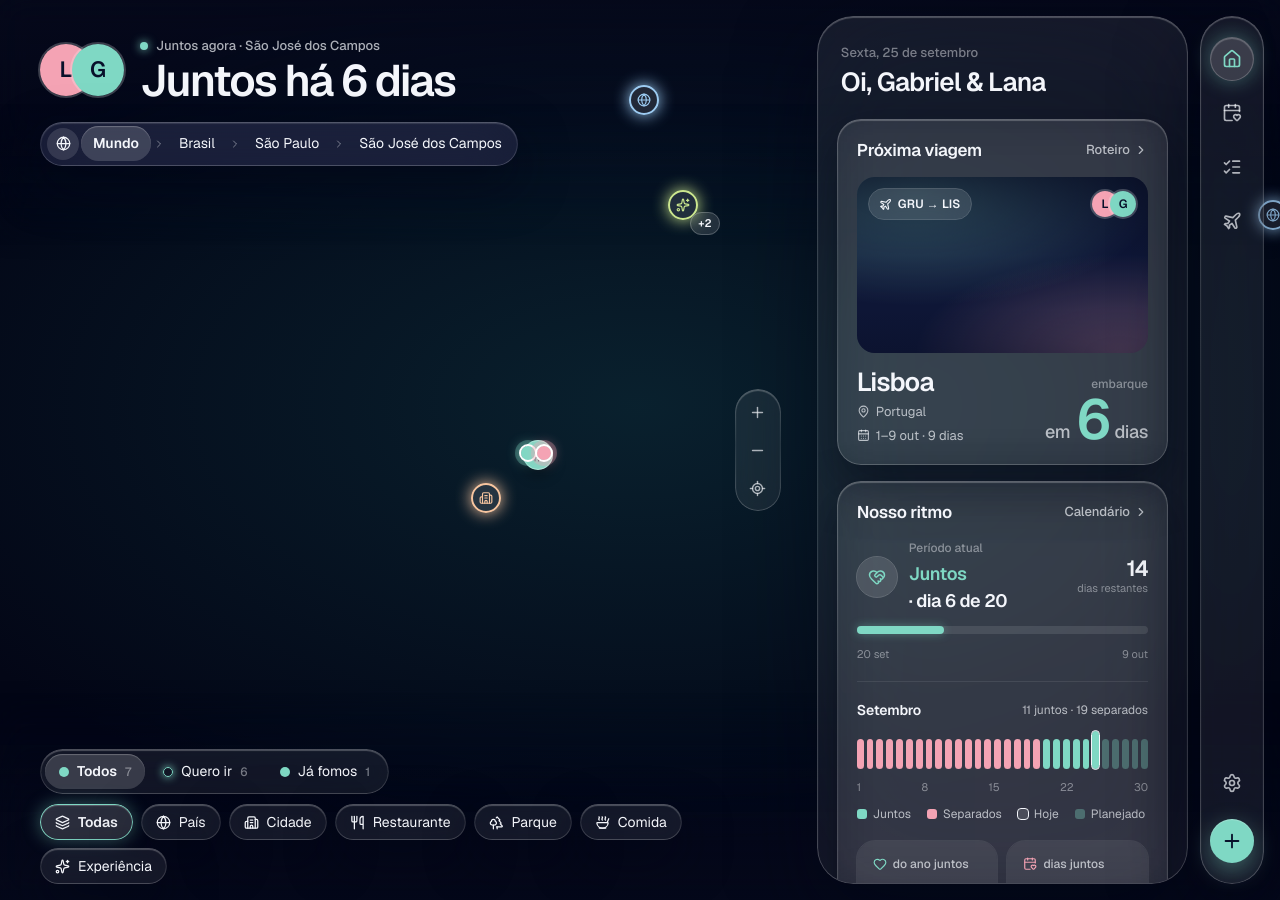
Scenario: A19 — /lista › clicar em Lista na barra vai para /lista
Click the link named "Lista": click(1232, 167) 1210,145 -> 1254,189
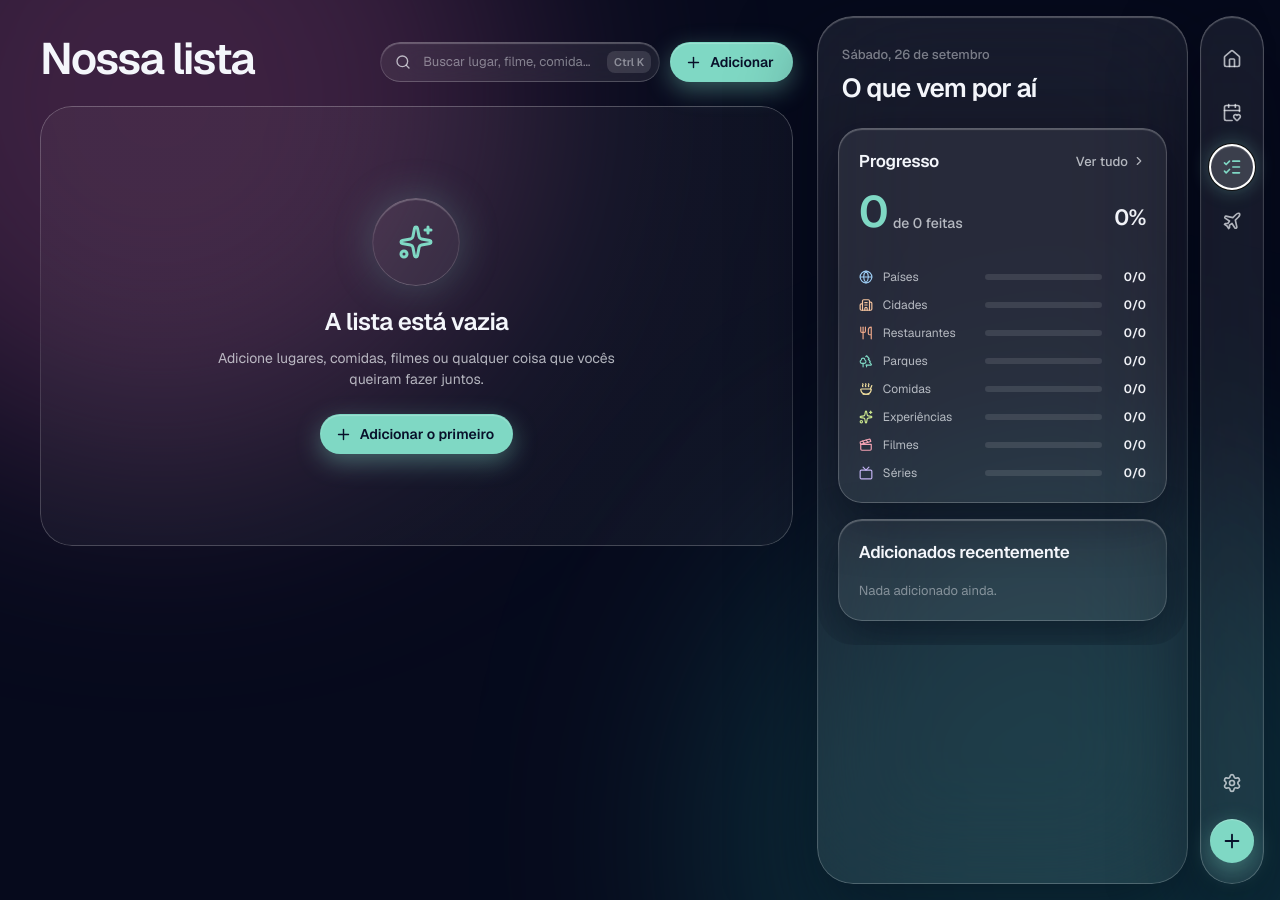
Result: the heading "Nossa lista" is shown at 40,36 -> 254,82
